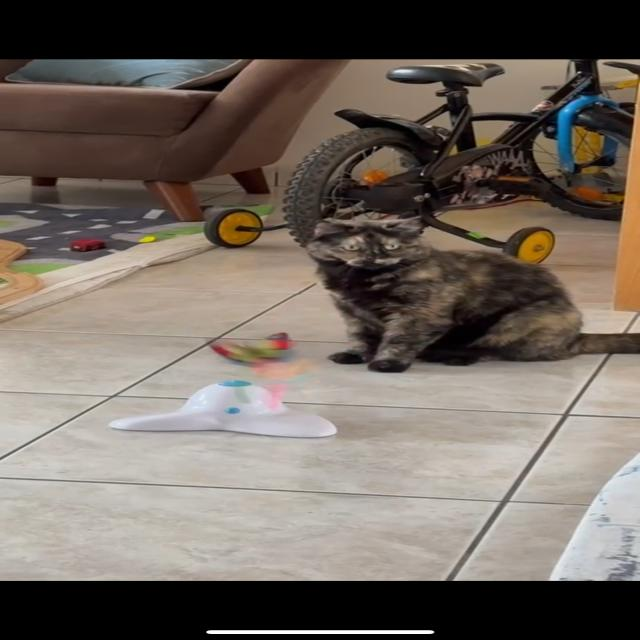authorized: (304, 215, 638, 373)
